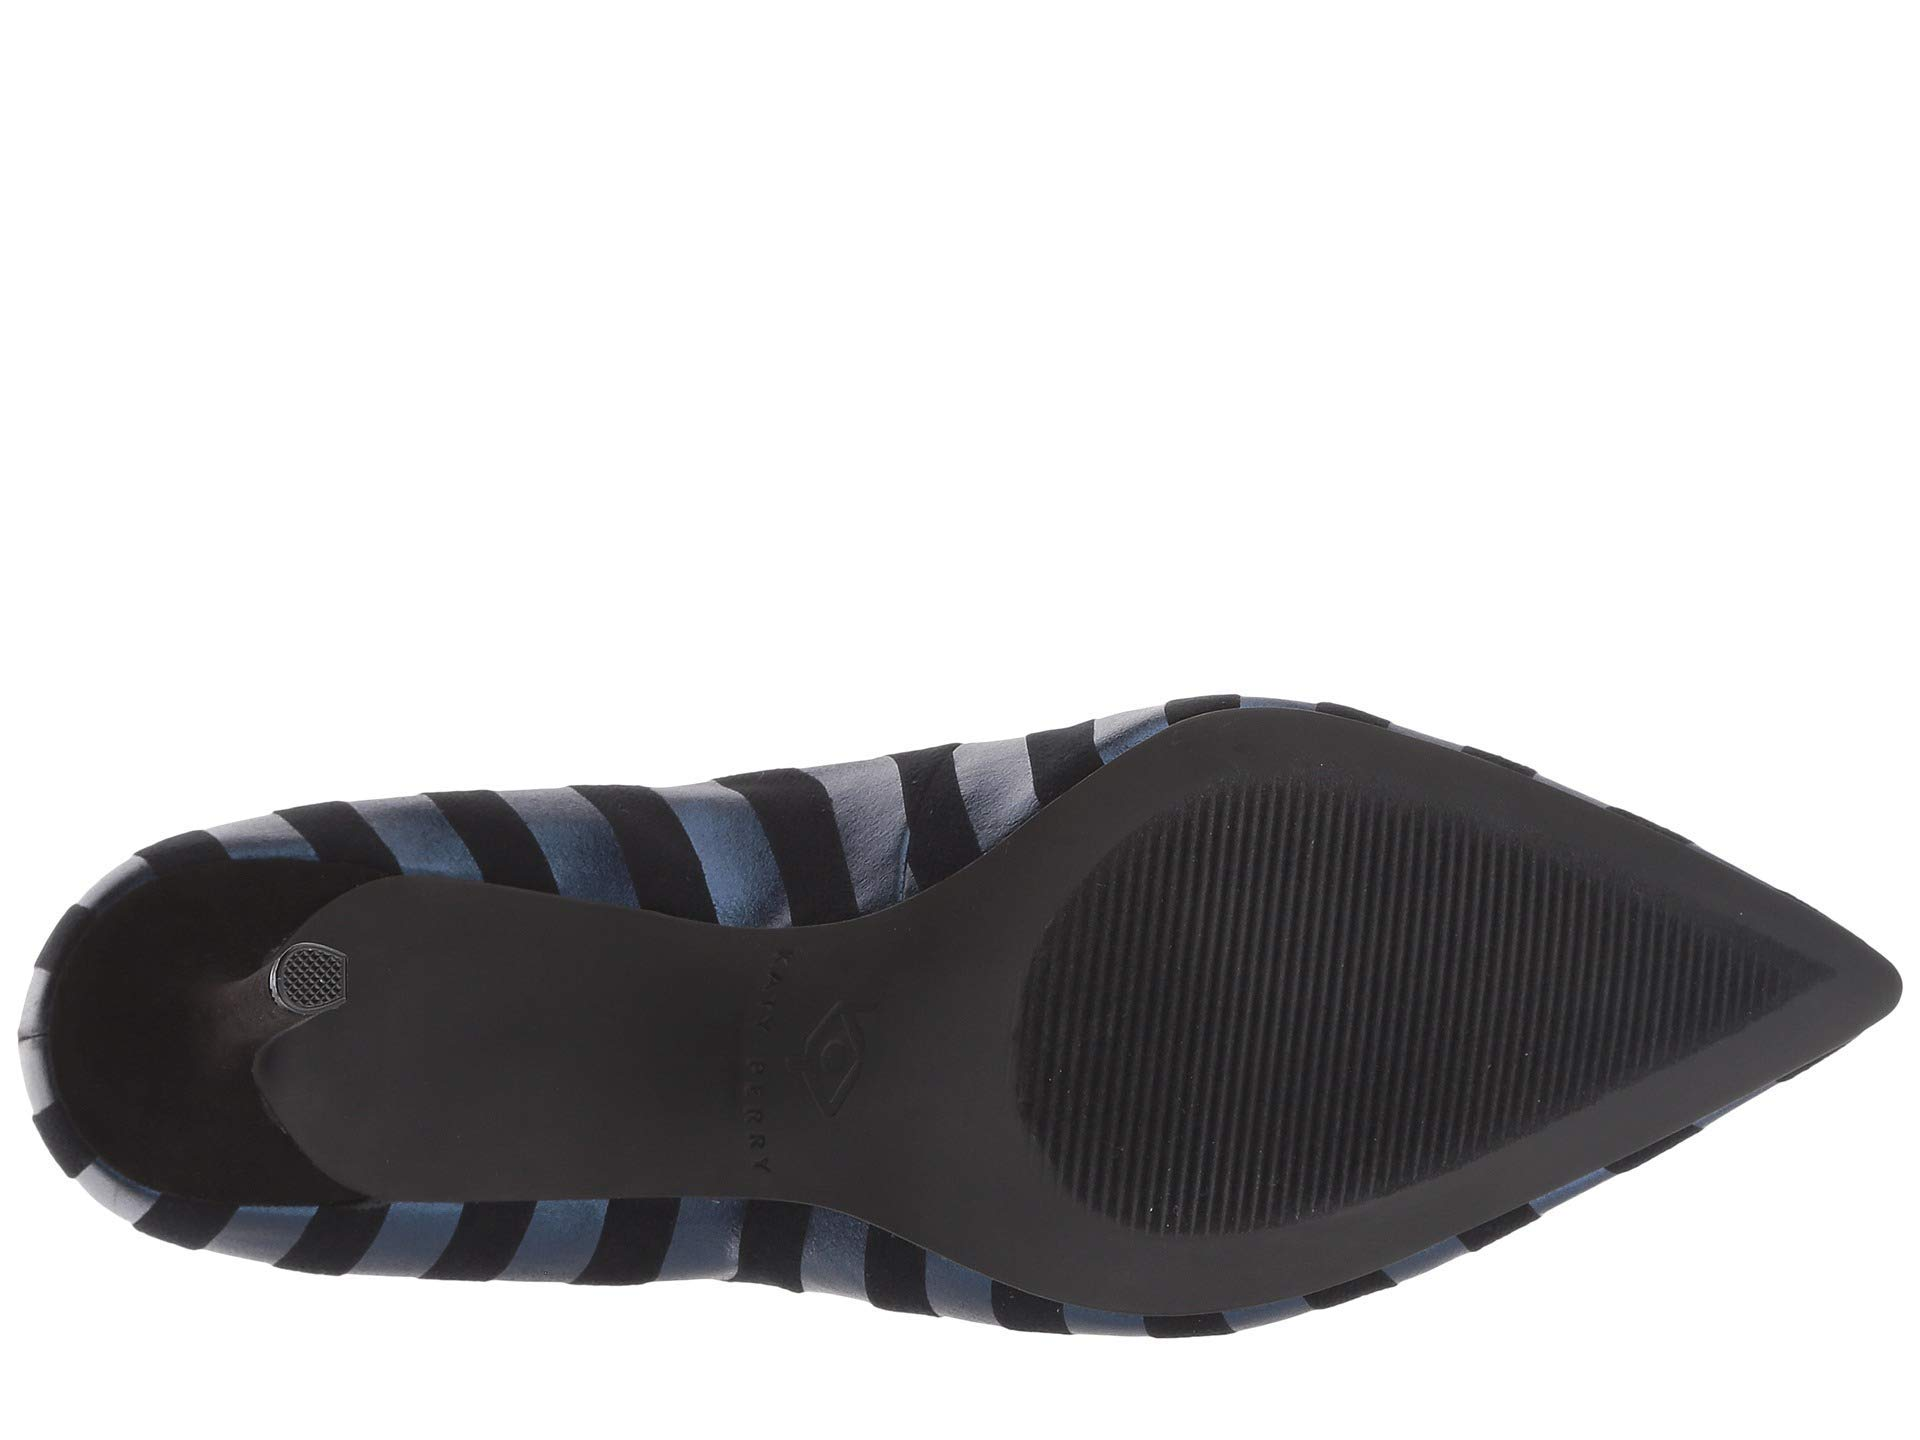line: (1132, 826, 1457, 1147), (1503, 914, 1757, 1047)
